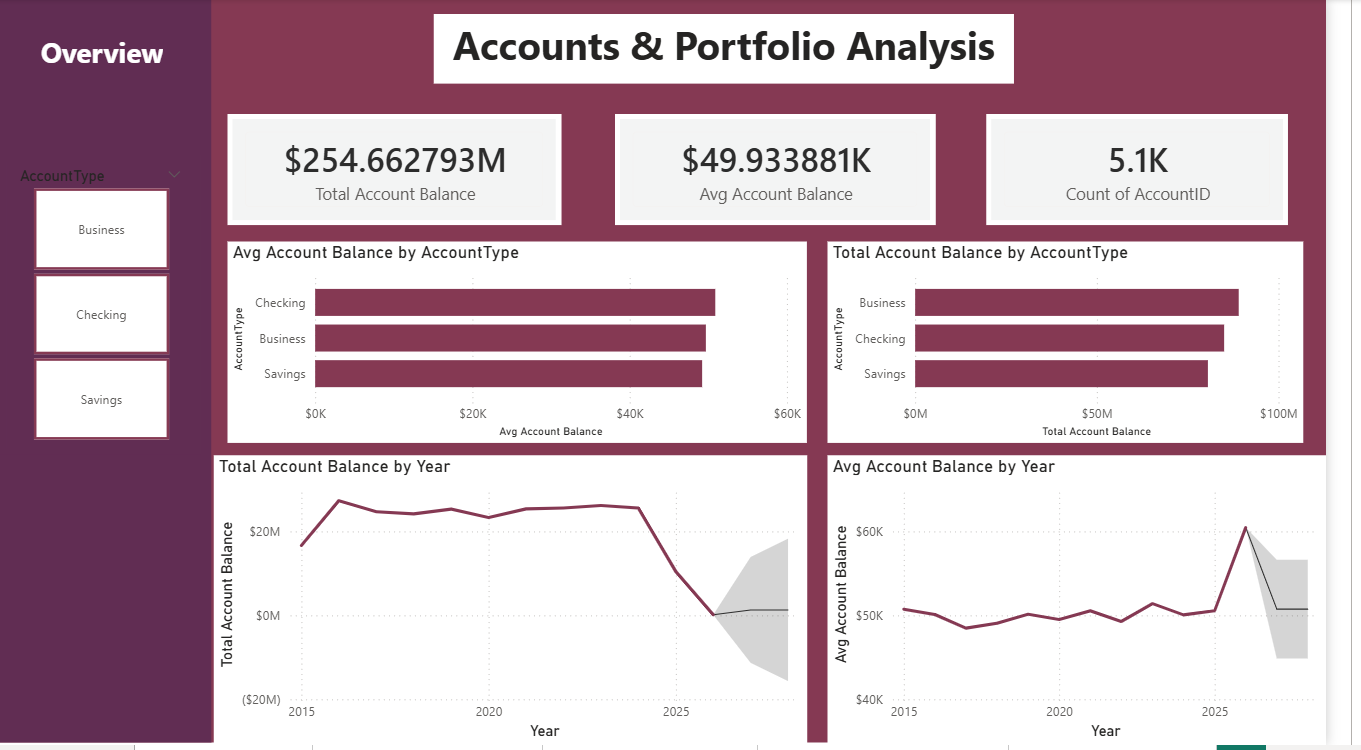

The dashboard page shown, as its layout file describes it:
{"tool":"powerbi","page":{"name":"Accounts & Portfolio Analysis","canvas":[1280,720],"ordinal":3},"visuals":[{"type":"textbox","box":[418.6,14.5,559.8,67.6],"z":0},{"type":"cardVisual","fields":{"Data":["_Measures.Total Account Balance"]},"box":[220.1,111.5,322.7,107.1],"z":1000},{"type":"cardVisual","fields":{"Data":["CountNonNull(Accounts.AccountID)"]},"box":[951.7,111.5,291.5,107.1],"z":2000},{"type":"cardVisual","fields":{"Data":["_Measures.Avg Account Balance"]},"box":[593.3,111.5,309.3,107.1],"z":3000},{"type":"lineChart","fields":{"Category":["Accounts.CreatedDate.Variation.Date Hierarchy.Year"],"Y":["_Measures.Total Account Balance"]},"box":[206.7,440.2,572.5,279.6],"z":4000},{"type":"lineChart","fields":{"Y":["_Measures.Avg Account Balance"],"Category":["Accounts.CreatedDate.Variation.Date Hierarchy.Year"]},"box":[798.5,440.2,481.8,279.6],"z":5000},{"type":"clusteredBarChart","fields":{"Category":["Accounts.AccountType"],"Y":["_Measures.Avg Account Balance"]},"box":[220.1,233.5,559.1,194.8],"z":6000},{"type":"clusteredBarChart","fields":{"Category":["Accounts.AccountType"],"Y":["_Measures.Total Account Balance"]},"box":[798.5,233.5,459.5,194.8],"z":7000},{"type":"slicer","fields":{"Values":["Accounts.AccountType"]},"box":[0,151,193.9,288.6],"z":8000},{"type":"actionButton","box":[13.3,14.8,170.2,72.5],"z":8001}]}

Visuals, with their boxes in screenshot pixels (x1, y1, x2, y2), scaled from the page's 1280x720 canvas onto the 1361x750 screenshot:
textbox: box(445, 15, 1040, 86)
cardVisual - _Measures.Total Account Balance: box(234, 116, 577, 228)
cardVisual - CountNonNull(Accounts.AccountID): box(1012, 116, 1322, 228)
cardVisual - _Measures.Avg Account Balance: box(631, 116, 960, 228)
lineChart - Accounts.CreatedDate.Variation.Date Hierarchy.Year x _Measures.Total Account Balance: box(220, 459, 829, 749)
lineChart - _Measures.Avg Account Balance x Accounts.CreatedDate.Variation.Date Hierarchy.Year: box(849, 459, 1360, 749)
clusteredBarChart - Accounts.AccountType x _Measures.Avg Account Balance: box(234, 243, 829, 446)
clusteredBarChart - Accounts.AccountType x _Measures.Total Account Balance: box(849, 243, 1338, 446)
slicer - Accounts.AccountType: box(0, 157, 206, 458)
actionButton: box(14, 15, 195, 91)
